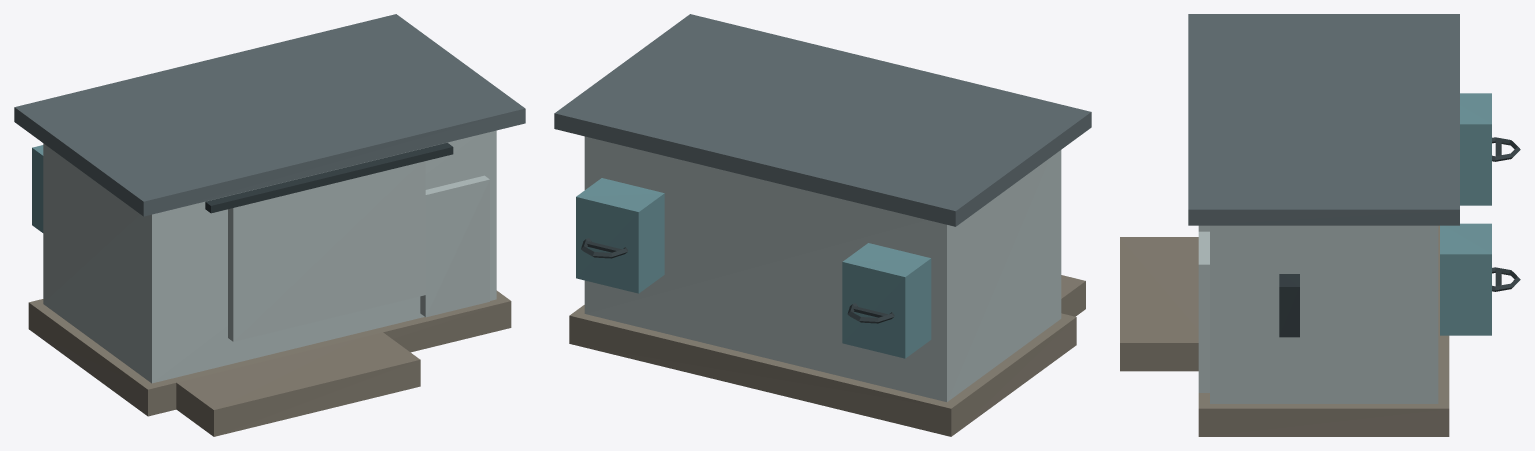
The model's file is cold-storage.source.glb.
The picture shows the model from 3 angles, left to right: view 1: azimuth 30°, elevation 25°; view 2: azimuth 150°, elevation 25°; view 3: azimuth 270°, elevation 25°; orthographic projection. The views are drawn at different scales.
Parts seen in each view (by area): view 1: cold-storage-shallow-galvanized-roof-mesh, cold-storage-insulated-panel-body-mesh, cold-storage-wide-insulated-loading-door-mesh, cold-storage-covered-loading-platform-mesh, cold-storage-stone-curb-mesh, cold-storage-small-service-door-mesh, cold-storage-door-rail-mesh, cold-storage-external-refrigeration-box-mesh; view 2: cold-storage-insulated-panel-body-mesh, cold-storage-shallow-galvanized-roof-mesh, cold-storage-stone-curb-mesh, cold-storage-external-refrigeration-box-mesh (×2), cold-storage-covered-loading-platform-mesh; view 3: cold-storage-shallow-galvanized-roof-mesh, cold-storage-insulated-panel-body-mesh, cold-storage-covered-loading-platform-mesh, cold-storage-stone-curb-mesh, cold-storage-external-refrigeration-box-mesh (×2), cold-storage-small-service-door-mesh, cold-storage-temperature-control-box-mesh.
Part boxes in pixels (<box>): cold-storage-shallow-galvanized-roof-mesh: <box>14,14,525,216</box>; cold-storage-insulated-panel-body-mesh: <box>43,130,496,383</box>; cold-storage-wide-insulated-loading-door-mesh: <box>228,161,425,341</box>; cold-storage-covered-loading-platform-mesh: <box>176,332,420,436</box>; cold-storage-stone-curb-mesh: <box>28,290,511,416</box>; cold-storage-small-service-door-mesh: <box>420,175,489,317</box>; cold-storage-door-rail-mesh: <box>205,142,453,213</box>; cold-storage-external-refrigeration-box-mesh: <box>32,145,43,232</box>; cold-storage-insulated-panel-body-mesh: <box>584,136,1061,401</box>; cold-storage-shallow-galvanized-roof-mesh: <box>554,14,1091,226</box>; cold-storage-stone-curb-mesh: <box>569,305,1076,436</box>; cold-storage-external-refrigeration-box-mesh (×2): <box>576,178,931,358</box>; cold-storage-covered-loading-platform-mesh: <box>1061,275,1085,316</box>; cold-storage-shallow-galvanized-roof-mesh: <box>1188,14,1459,225</box>; cold-storage-insulated-panel-body-mesh: <box>1210,225,1438,403</box>; cold-storage-covered-loading-platform-mesh: <box>1120,237,1198,371</box>; cold-storage-stone-curb-mesh: <box>1198,225,1449,436</box>; cold-storage-external-refrigeration-box-mesh (×2): <box>1440,93,1491,335</box>; cold-storage-small-service-door-mesh: <box>1198,231,1209,392</box>; cold-storage-temperature-control-box-mesh: <box>1279,274,1299,337</box>.
Bounding box in the file's own units: 2.73 × 1.48 × 2.32.
